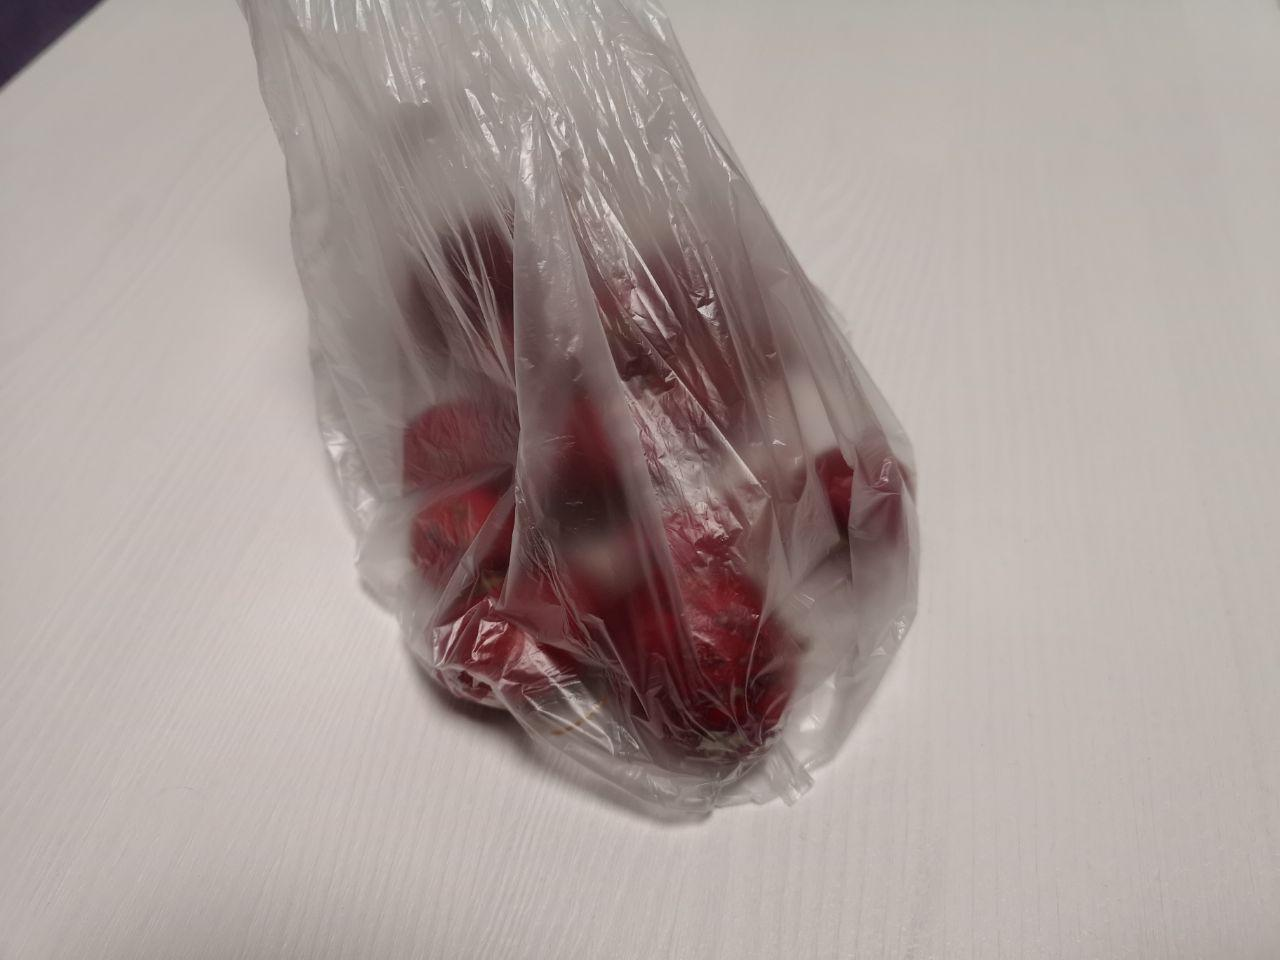redish: (285, 127, 968, 847)
